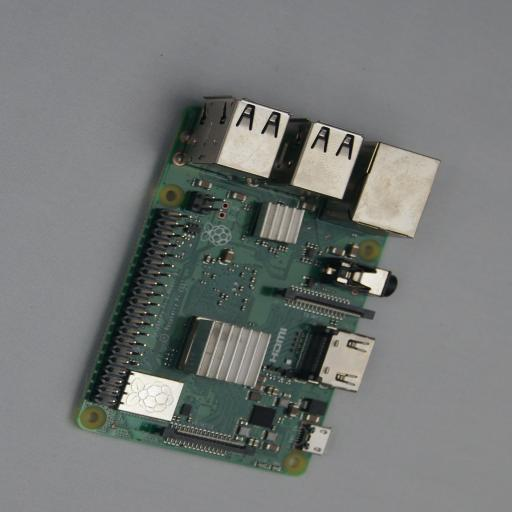Raspberry Pi 3 B-: (70, 89, 440, 474)
